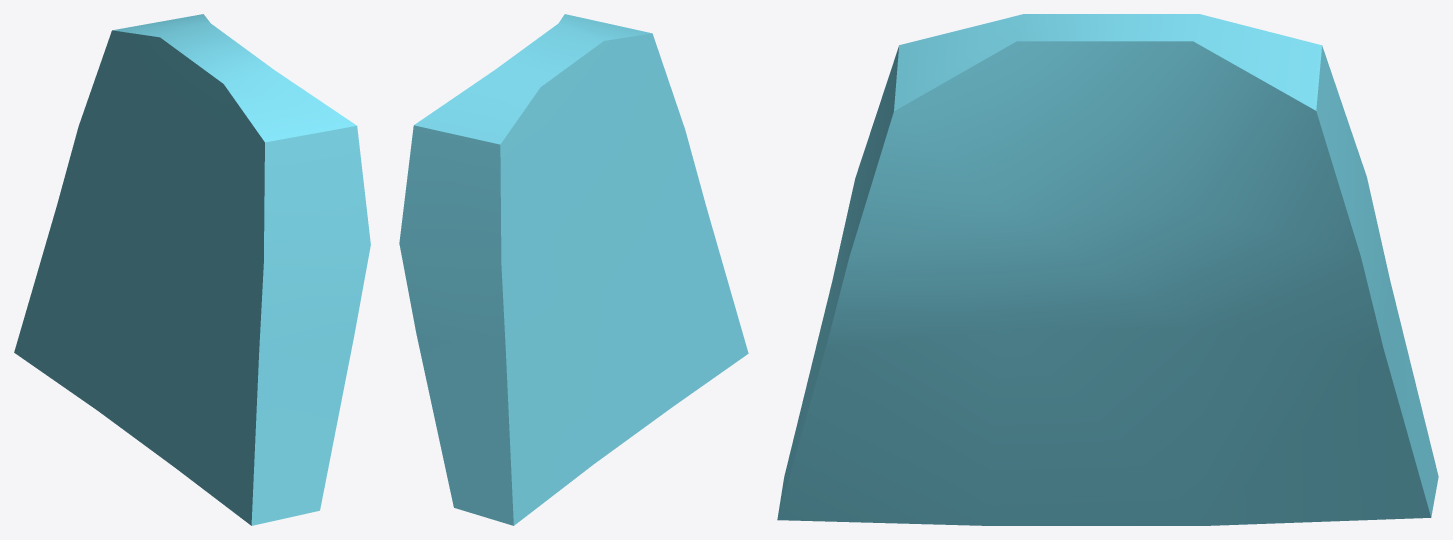
File: GlassCircus.fbx
The picture shows the model from 3 angles, left to right: view 1: azimuth 30°, elevation 25°; view 2: azimuth 150°, elevation 25°; view 3: azimuth 270°, elevation 25°; orthographic projection. The views are drawn at different scales.
Visible parts, largest first — view 1: Shape024; view 2: Shape024; view 3: Shape024.
Part boxes in pixels (left/top/right/bottom): Shape024: left=14, top=14, right=370, bottom=525; Shape024: left=399, top=14, right=748, bottom=525; Shape024: left=777, top=14, right=1438, bottom=525.
Bounding box in the file's own units: 48.79 × 118 × 139.
